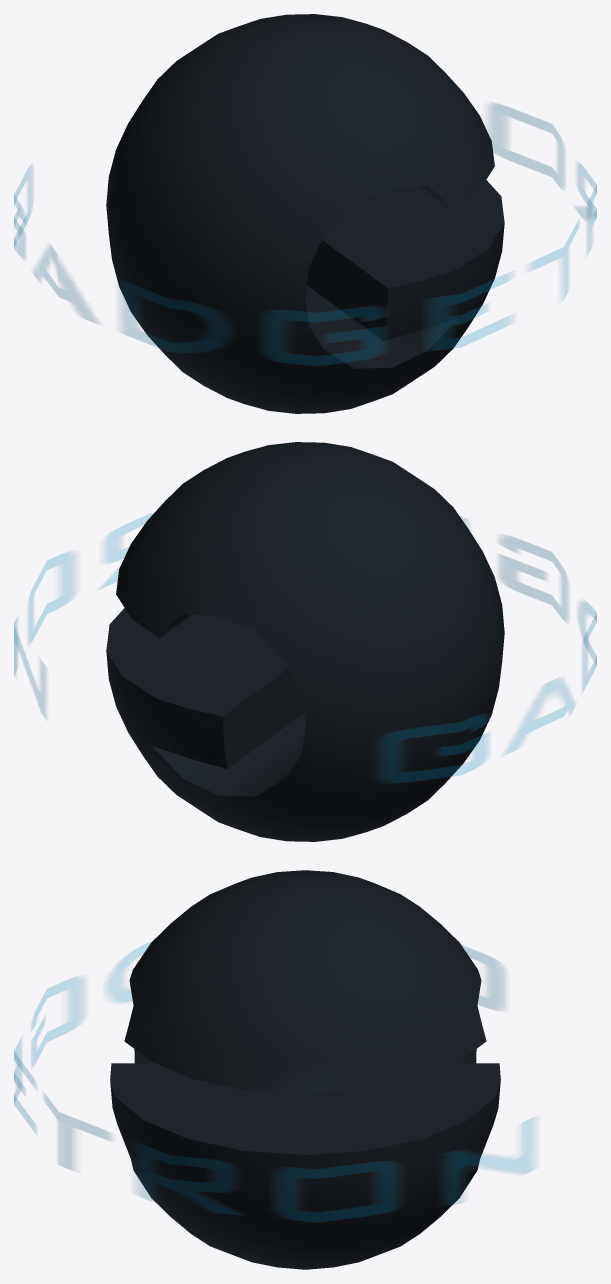
File: vendor.glb
The picture shows the model from 3 angles, top to bottom: view 1: azimuth 30°, elevation 25°; view 2: azimuth 150°, elevation 25°; view 3: azimuth 270°, elevation 25°; orthographic projection.
Visible parts, largest first — view 1: Vendor; view 2: Vendor; view 3: Vendor.
Part boxes in pixels (box(x1,y1,x2,y2)): Vendor: box(14, 14, 596, 413); Vendor: box(14, 442, 596, 841); Vendor: box(14, 870, 534, 1269).
Size of the model in its own units: 4.49 by 3.08 by 4.49.
Materials: 2 (2 with a texture image).
